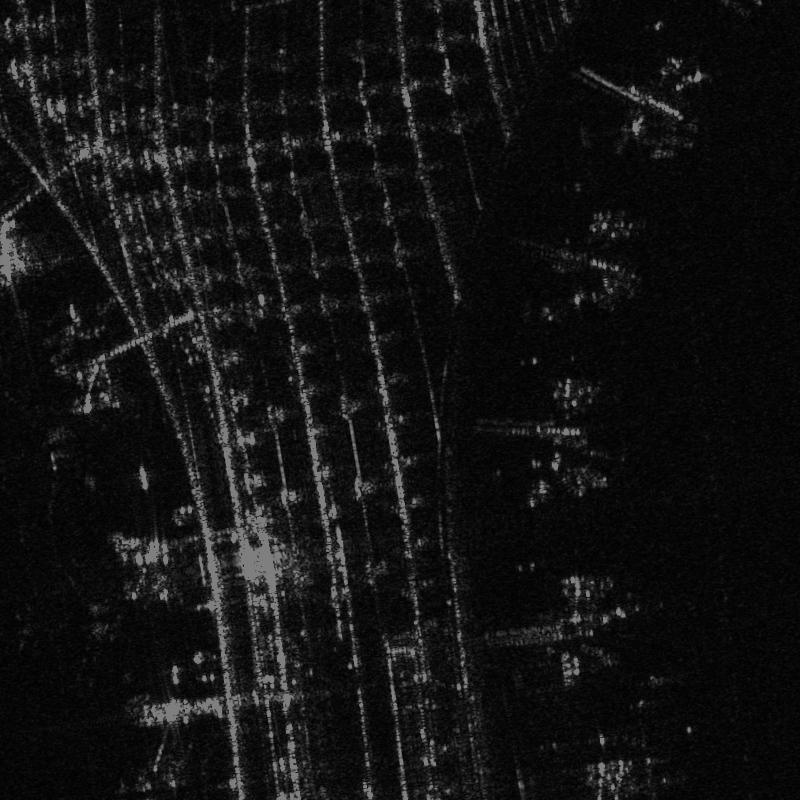Boeing787: (1, 392, 80, 523)
other: (16, 557, 124, 684)
